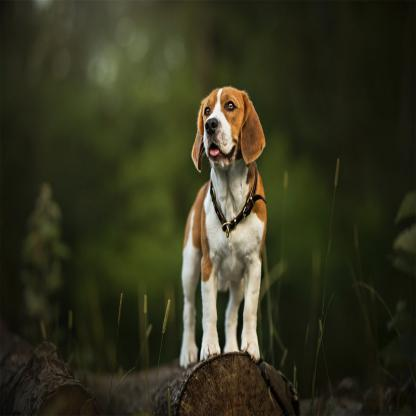Bigl: (179, 83, 270, 364)
